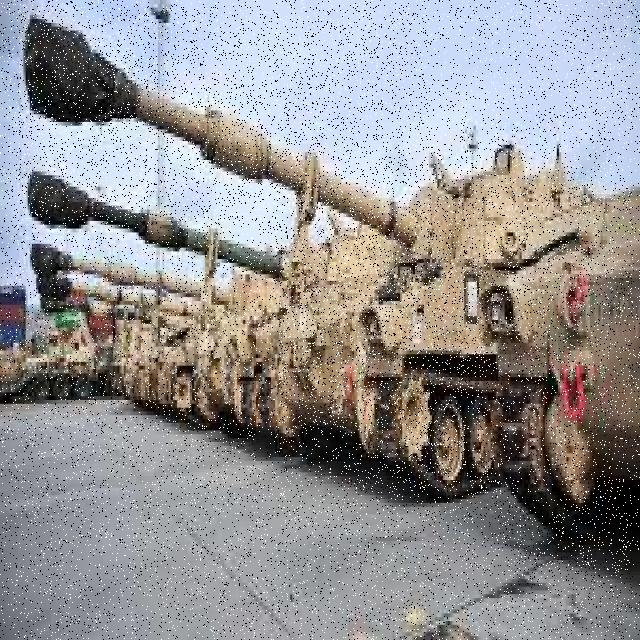MIL_MBT: (19, 6, 429, 234), (492, 183, 632, 571), (31, 225, 263, 453), (355, 197, 489, 493), (279, 226, 349, 447)
